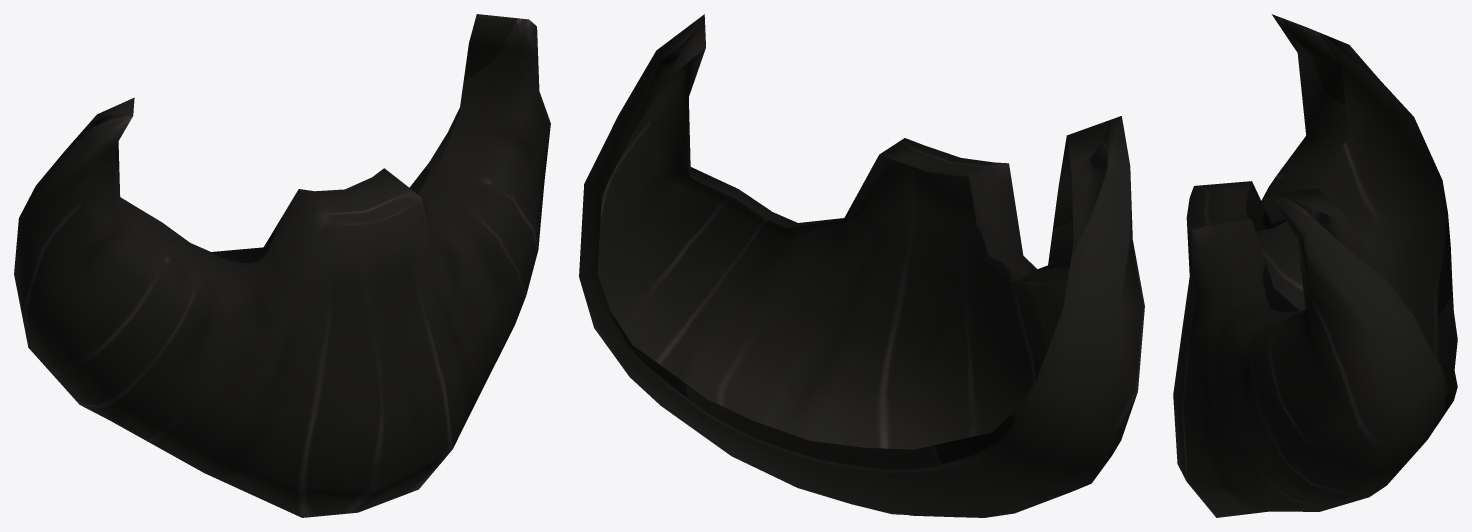
File: beard7.fbx
3 views of the same model, side by side, from view 1: azimuth 30°, elevation 25°; view 2: azimuth 150°, elevation 25°; view 3: azimuth 270°, elevation 25° (orthographic). The views are drawn at different scales.
Visible parts, largest first — view 1: beard7; view 2: beard7; view 3: beard7.
Part boxes in pixels (x1,y1,x2,y2): beard7: (14, 14, 550, 517); beard7: (579, 14, 1144, 517); beard7: (1173, 14, 1457, 517).
Size of the model in its own units: 7.08 by 5.54 by 3.6.
